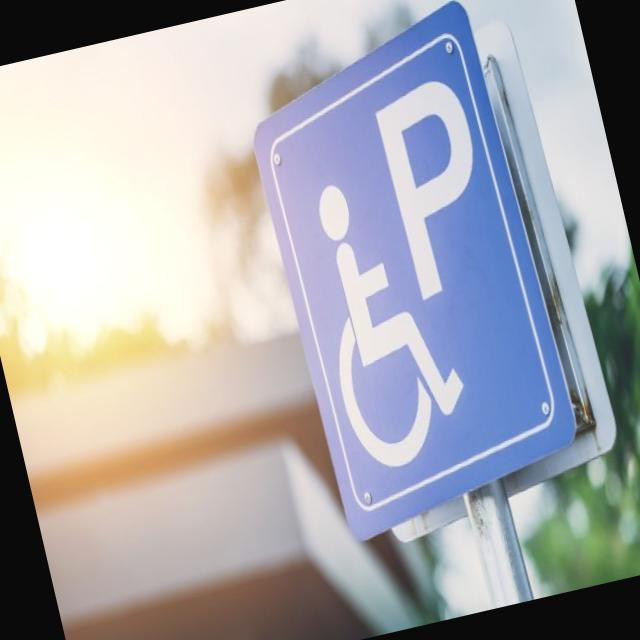symbol_of_access: (287, 156, 482, 482)
